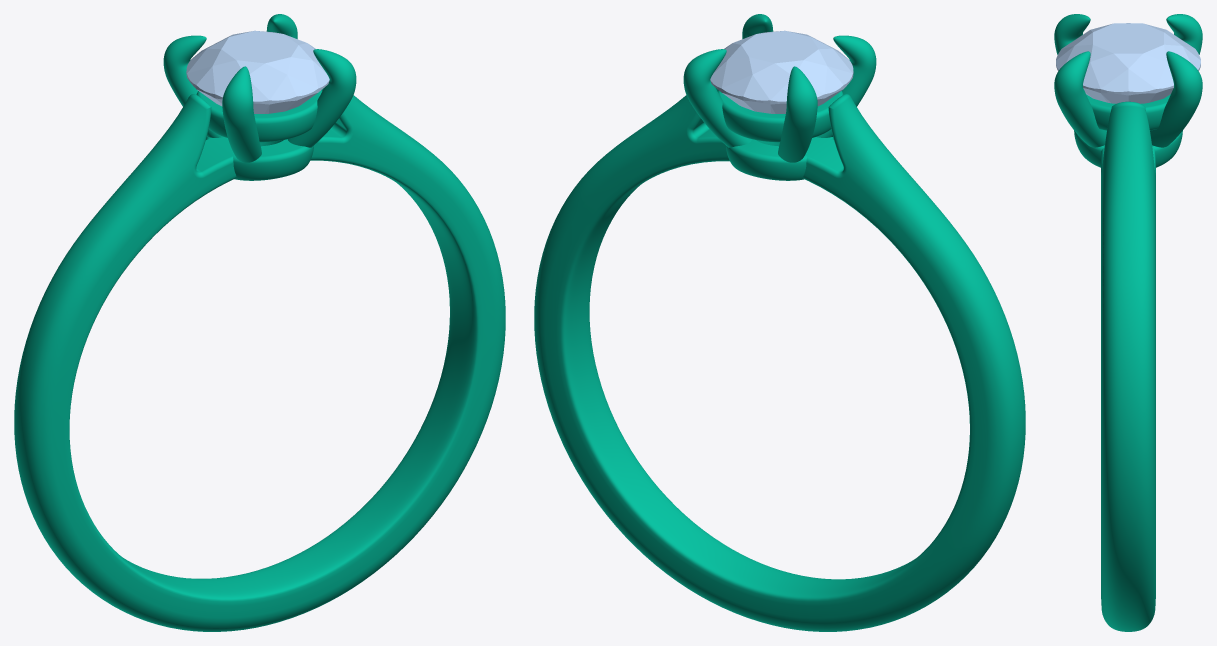
The model's file is r2 rendering.glb.
The picture shows the model from 3 angles, left to right: view 1: azimuth 30°, elevation 25°; view 2: azimuth 150°, elevation 25°; view 3: azimuth 270°, elevation 25°; orthographic projection.
Parts seen in each view (by area): view 1: r2 rendering.3dm, Diamond_Round; view 2: r2 rendering.3dm, Diamond_Round; view 3: r2 rendering.3dm, Diamond_Round.
Boxes of the visible parts, x1,y1,x2,y2 form: r2 rendering.3dm: [14, 14, 505, 631]; Diamond_Round: [186, 30, 329, 113]; r2 rendering.3dm: [534, 14, 1025, 631]; Diamond_Round: [710, 30, 853, 113]; r2 rendering.3dm: [1054, 14, 1202, 631]; Diamond_Round: [1056, 23, 1200, 103].
Size of the model in its own units: 2.58 by 2.97 by 0.6987.
